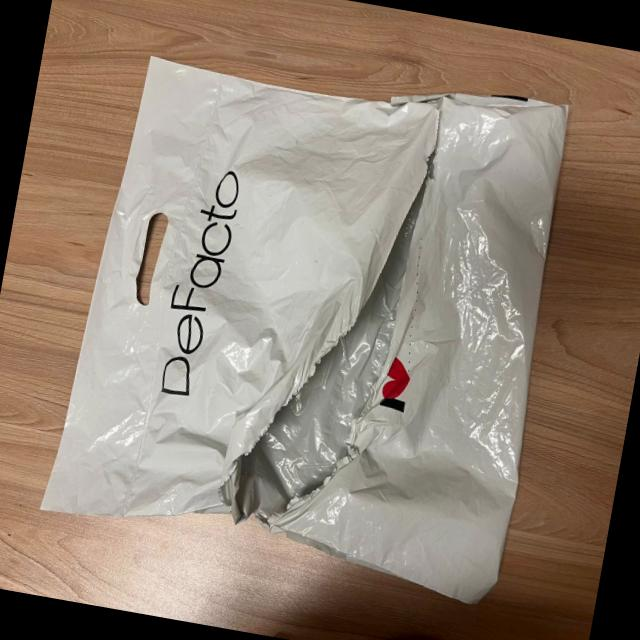damaged_package: (31, 25, 582, 622)
